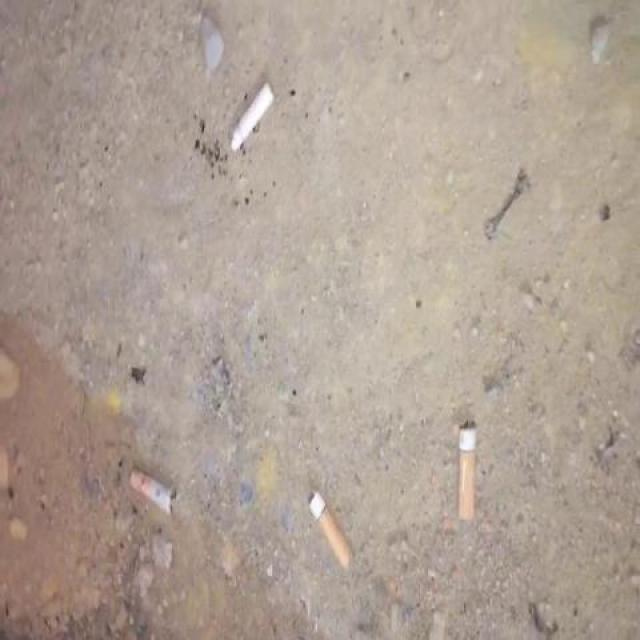non-organic waste: (304, 486, 359, 575), (227, 76, 278, 156), (128, 462, 184, 518), (454, 418, 481, 529)
